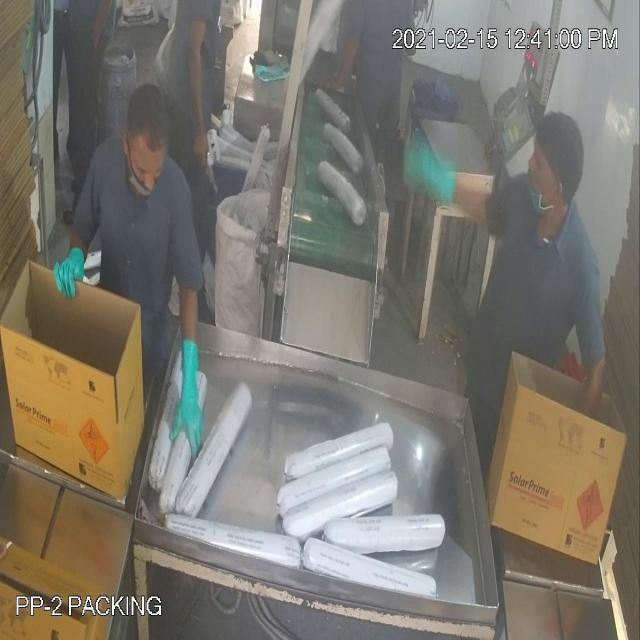Gloves: (25, 33, 423, 397)
